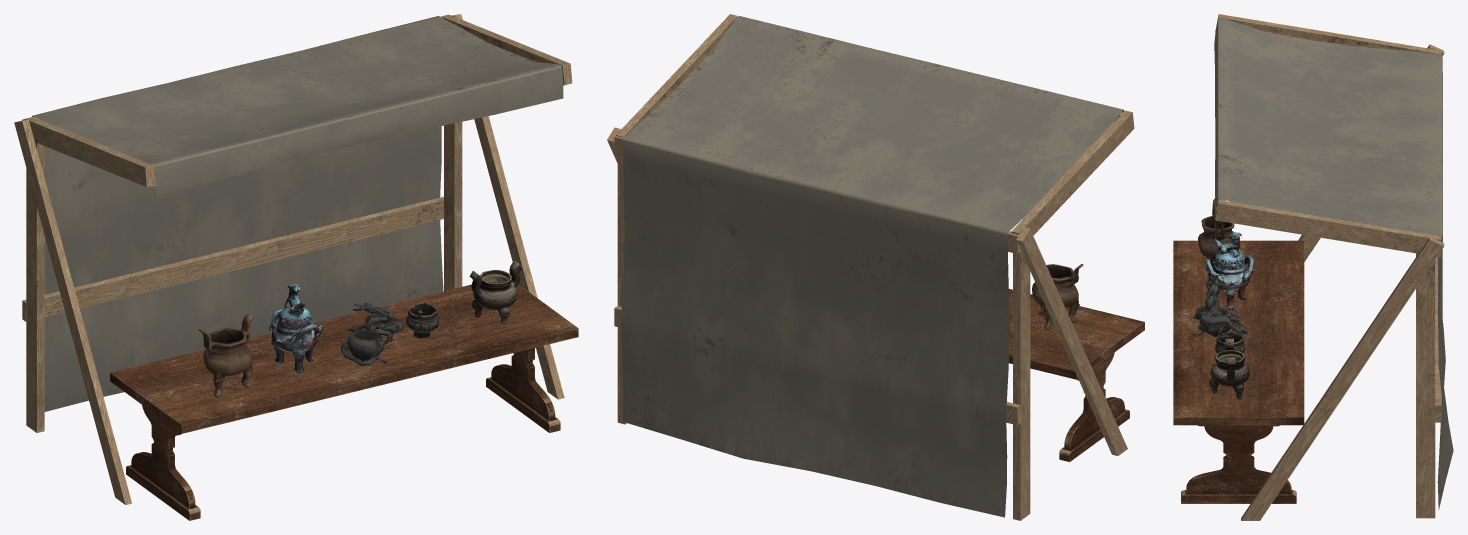
3 views of the same model, side by side, from view 1: azimuth 30°, elevation 25°; view 2: azimuth 150°, elevation 25°; view 3: azimuth 270°, elevation 25° (orthographic). The views are drawn at different scales.
Parts seen in each view (by area): view 1: Plane_cloth, table, stand, Object_5, Object_4, Object_1, Object_2, Object_3; view 2: Plane_cloth, stand, table, Object_4; view 3: Plane_cloth, table, stand, Object_5, Object_1, Object_2, Object_4, Object_3.
Boxes of the visible parts, left/top/right/bottom form: Plane_cloth: left=32, top=16, right=563, bottom=411; table: left=110, top=284, right=578, bottom=520; stand: left=14, top=14, right=572, bottom=504; Object_5: left=269, top=284, right=324, bottom=373; Object_4: left=198, top=314, right=252, bottom=397; Object_1: left=341, top=303, right=404, bottom=365; Object_2: left=469, top=261, right=522, bottom=324; Object_3: left=406, top=302, right=439, bottom=338; Plane_cloth: left=621, top=16, right=1124, bottom=517; stand: left=607, top=14, right=1134, bottom=520; table: left=1008, top=289, right=1144, bottom=462; Object_4: left=1032, top=264, right=1083, bottom=329; Plane_cloth: left=1214, top=18, right=1453, bottom=510; table: left=1173, top=240, right=1304, bottom=503; stand: left=1215, top=14, right=1444, bottom=520; Object_5: left=1205, top=232, right=1254, bottom=310; Object_1: left=1191, top=277, right=1247, bottom=336; Object_2: left=1208, top=338, right=1249, bottom=399; Object_4: left=1198, top=198, right=1237, bottom=265; Object_3: left=1215, top=328, right=1245, bottom=353.
Bounding box in the file's own units: 312 × 234 × 189.
9 materials, 9 textured.
